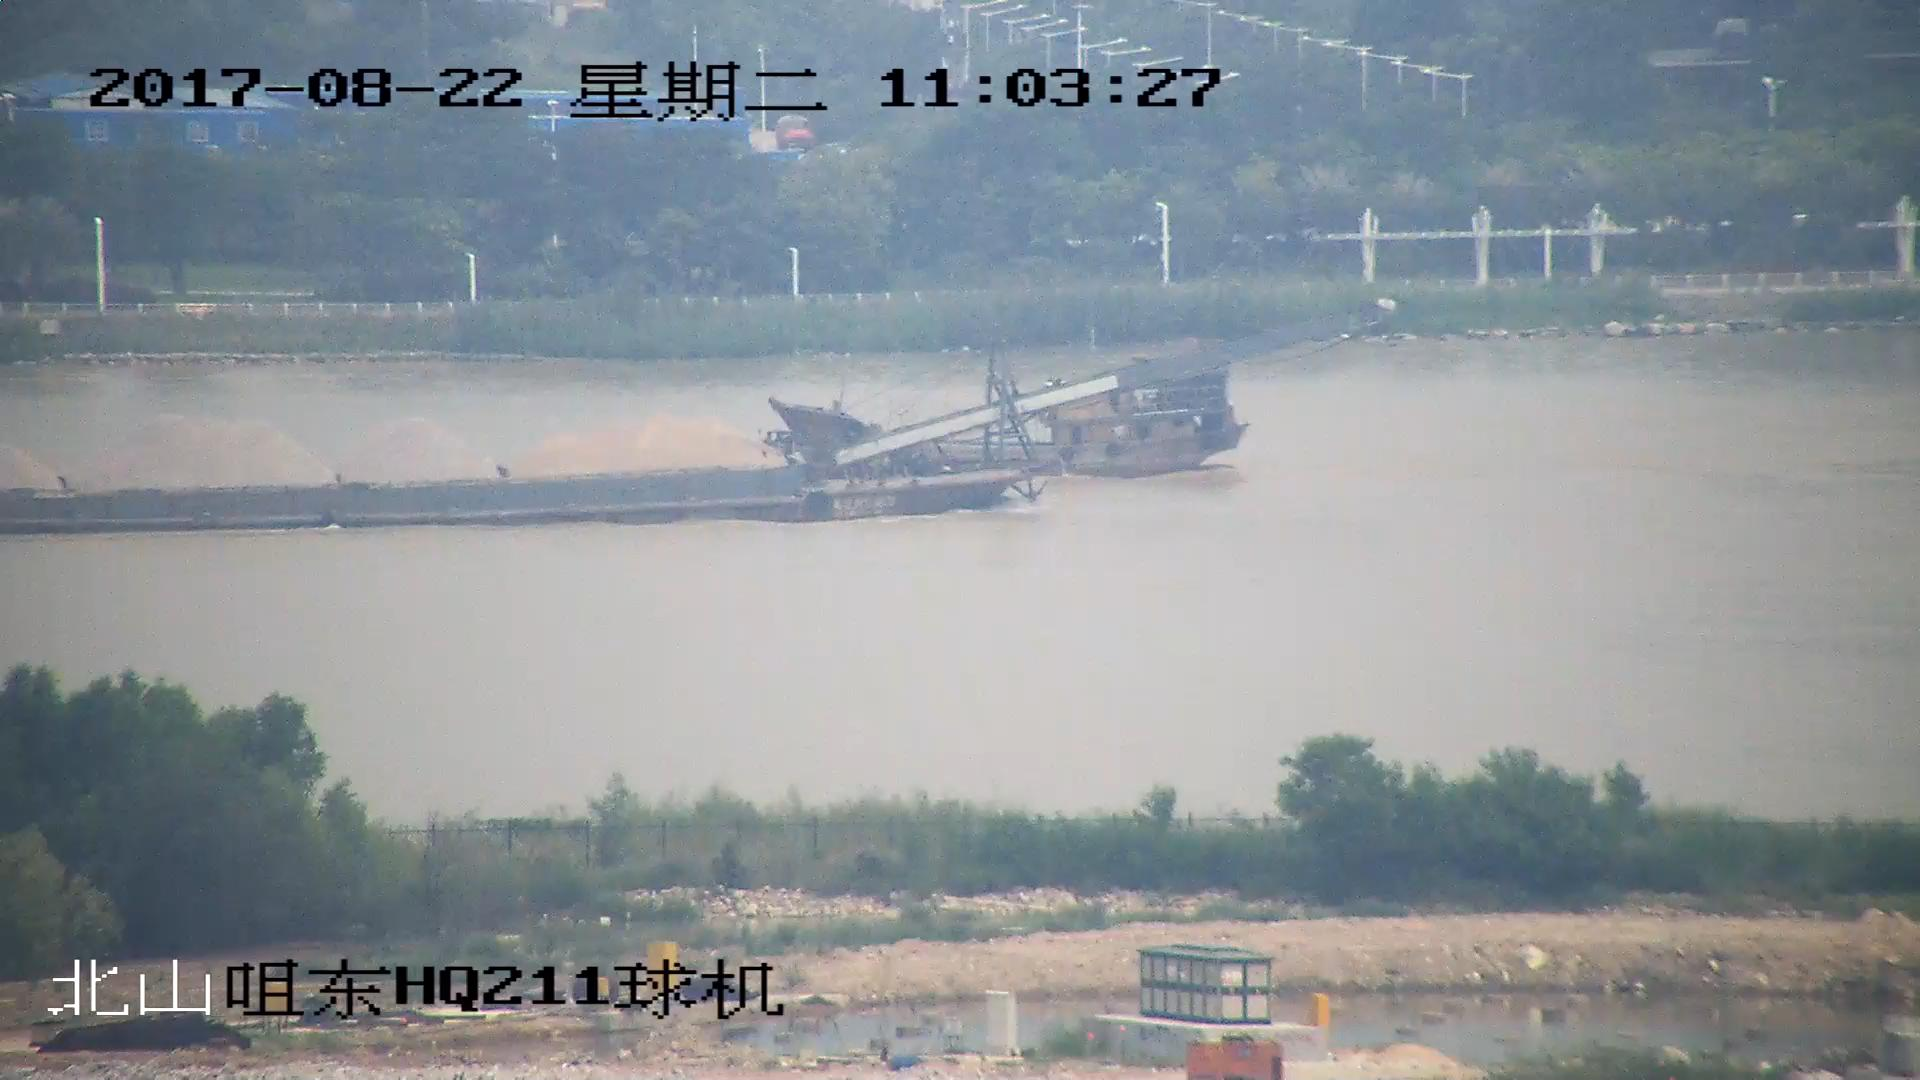fishing boat: (772, 361, 1246, 474)
ore carrier: (1, 303, 1389, 532)
